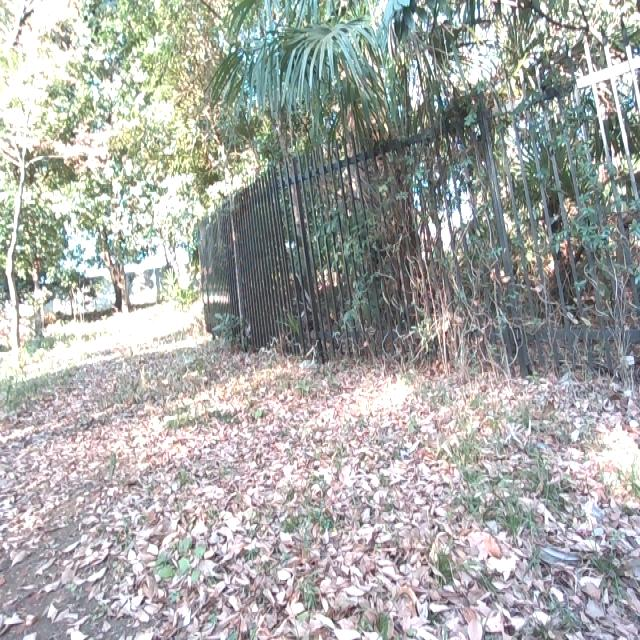artifact: (192, 66, 640, 370)
tree: (0, 85, 60, 367), (91, 188, 138, 310)
